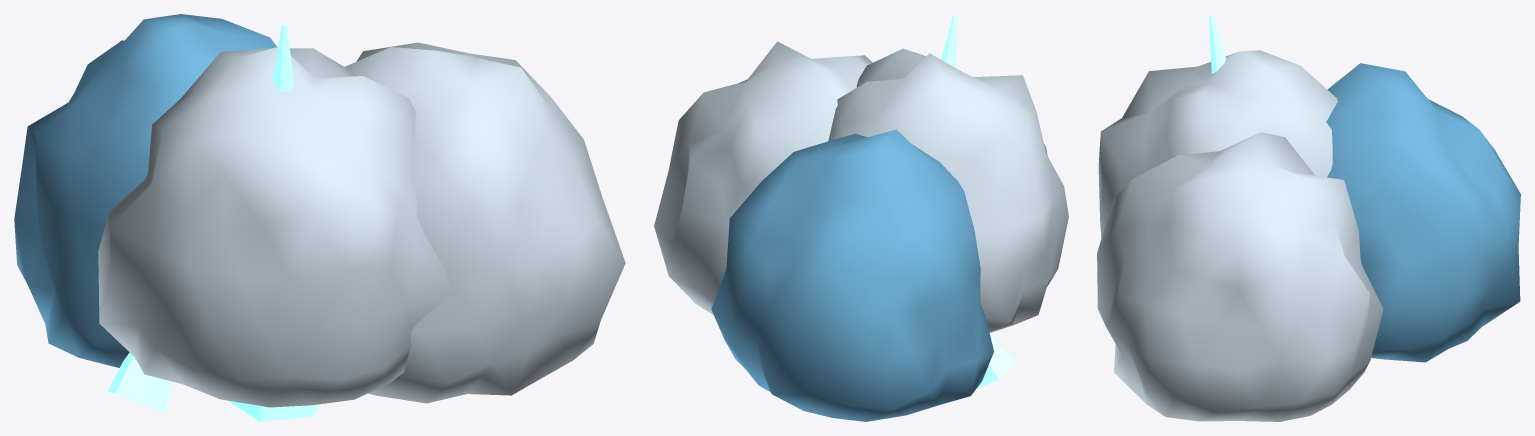
File: TILE_WallCorner.glb
The picture shows the model from 3 angles, left to right: view 1: azimuth 30°, elevation 25°; view 2: azimuth 150°, elevation 25°; view 3: azimuth 270°, elevation 25°; orthographic projection. The views are drawn at different scales.
Visible parts, largest first — view 1: TILE_WallCorner; view 2: TILE_WallCorner; view 3: TILE_WallCorner.
Part boxes in pixels (x1,y1,x2,y2): TILE_WallCorner: [14, 14, 625, 421]; TILE_WallCorner: [654, 14, 1068, 421]; TILE_WallCorner: [1097, 14, 1520, 421].
Size of the model in its own units: 4.37 by 3.62 by 4.26.
